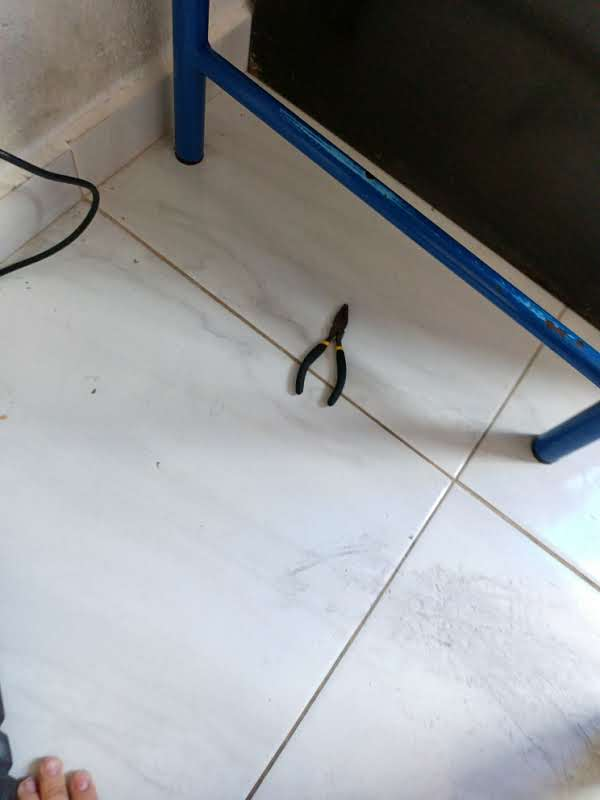Pinzas: (287, 300, 354, 407)
